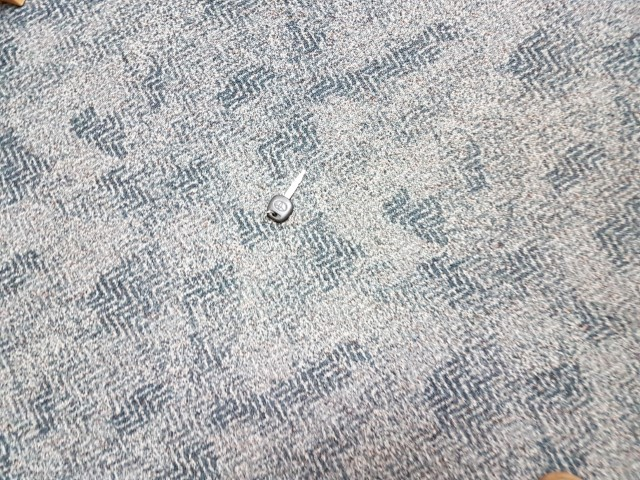key: (267, 168, 307, 222)
